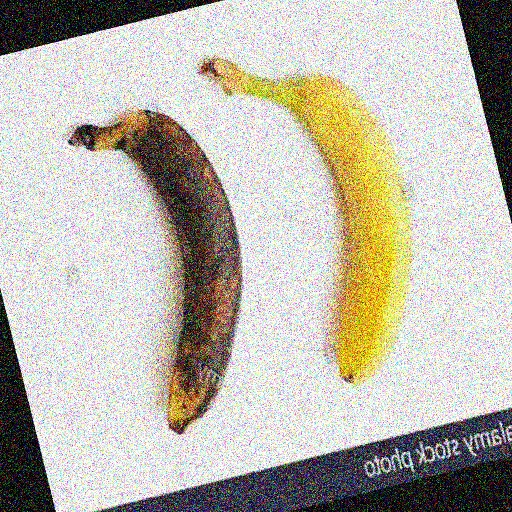fruit: (56, 69, 429, 470), (322, 45, 479, 325)
